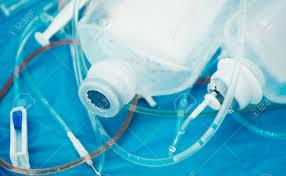Iv_Bottle: (78, 0, 232, 116), (211, 0, 285, 108)
